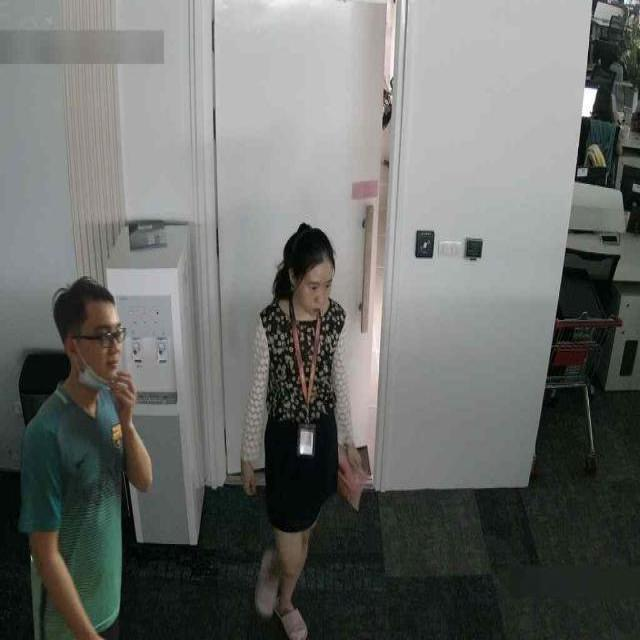bare_hand: (103, 365, 152, 429), (228, 435, 268, 505)
